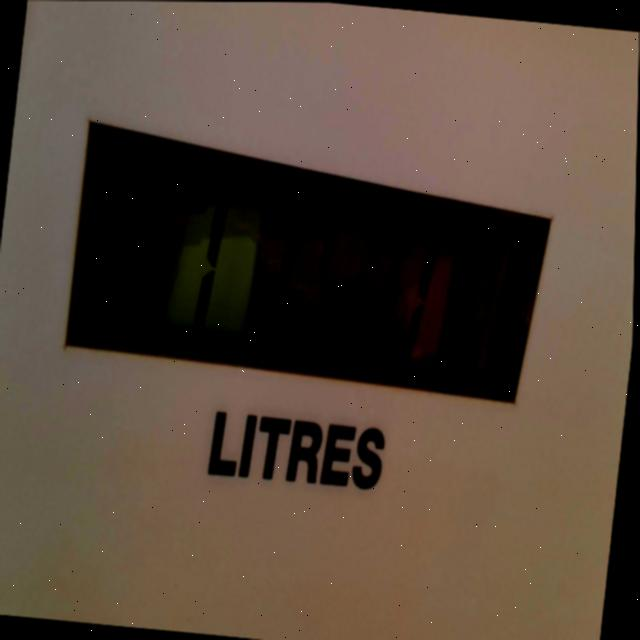.: (345, 331, 372, 370)
0: (362, 210, 446, 401), (431, 213, 517, 395)
1: (184, 182, 246, 347)
5: (304, 191, 370, 374)
7: (232, 186, 304, 357)
